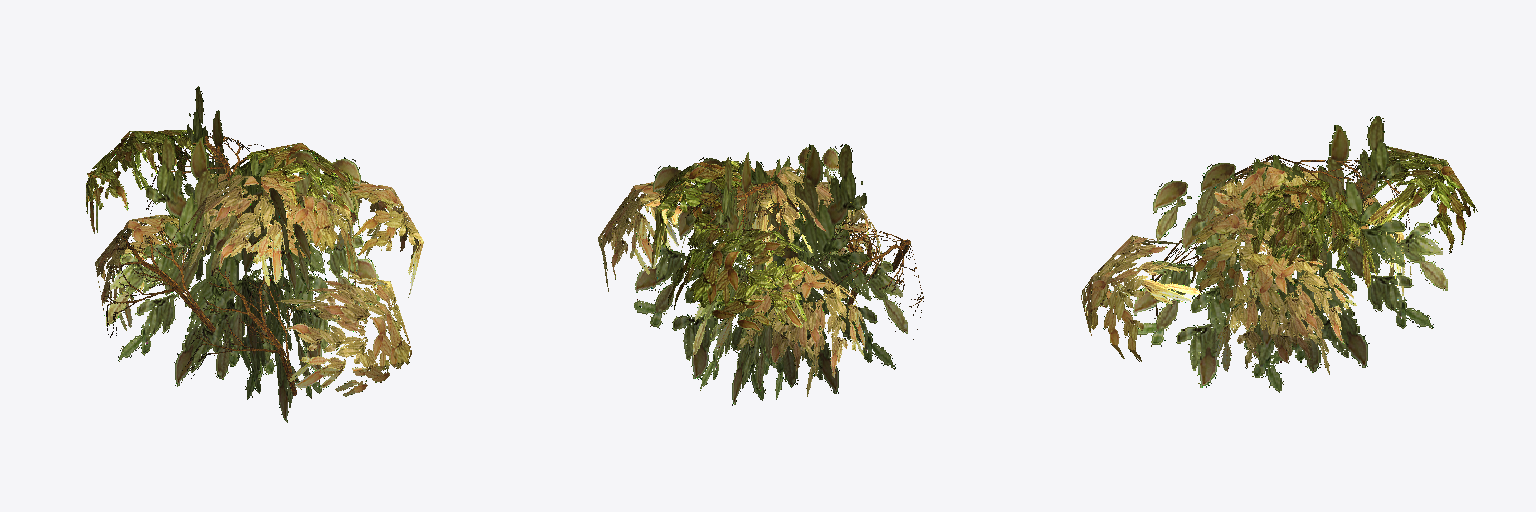
3 renders of one model, left to right at view 1: azimuth 30°, elevation 25°; view 2: azimuth 150°, elevation 25°; view 3: azimuth 270°, elevation 25°, orthographic.
Parts seen in each view (by area): view 1: Plant1; view 2: Plant1; view 3: Plant1.
Boxes of the visible parts, x1,y1,x2,y2 form: Plant1: [86, 86, 423, 422]; Plant1: [598, 144, 923, 405]; Plant1: [1081, 116, 1477, 392].
Size of the model in its own units: 116 by 105 by 131.
Materials: 1 (1 with a texture image).